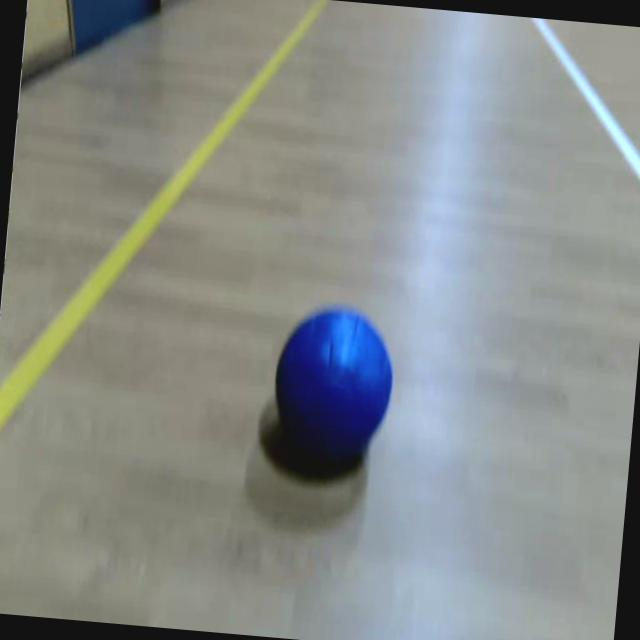blue_ball: (264, 298, 401, 478)
